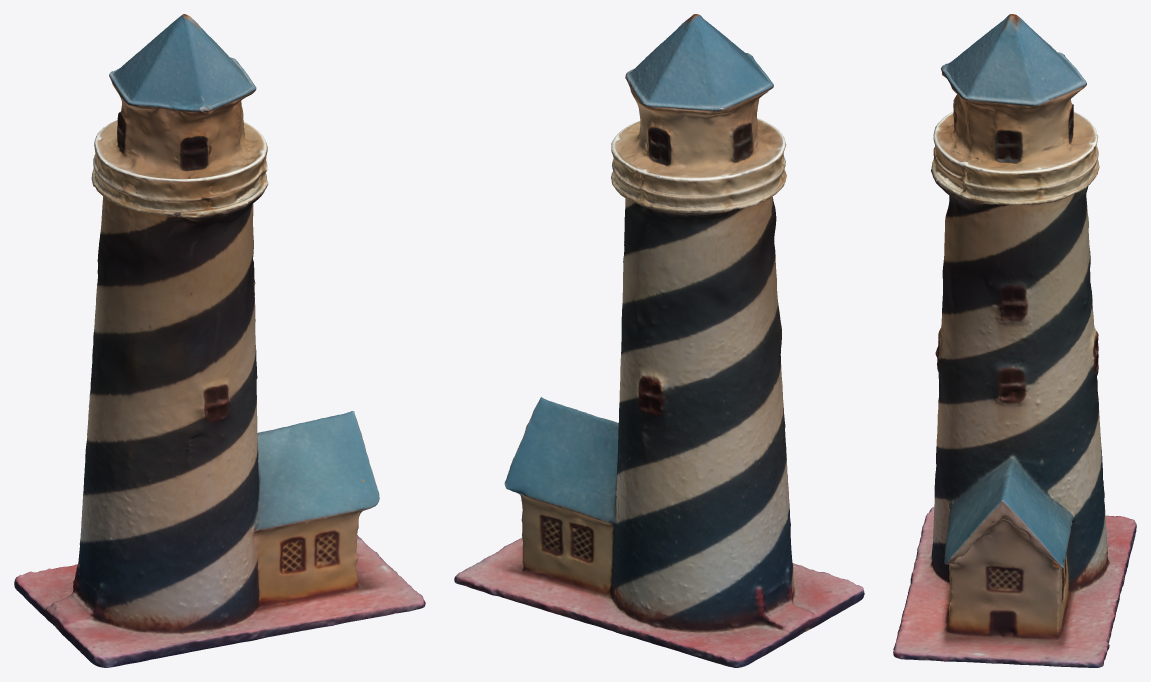
The model's file is far.glb.
3 views of the same model, side by side, from view 1: azimuth 30°, elevation 25°; view 2: azimuth 150°, elevation 25°; view 3: azimuth 270°, elevation 25° (orthographic). The views are drawn at different scales.
Visible parts, largest first — view 1: mainMeshNode; view 2: mainMeshNode; view 3: mainMeshNode.
Part boxes in pixels (x1,y1,x2,y2): mainMeshNode: (14, 14, 425, 667); mainMeshNode: (454, 14, 864, 667); mainMeshNode: (893, 14, 1136, 667).
Size of the model in its own units: 2.7 by 4.59 by 1.81.
1 material, 1 textured.
